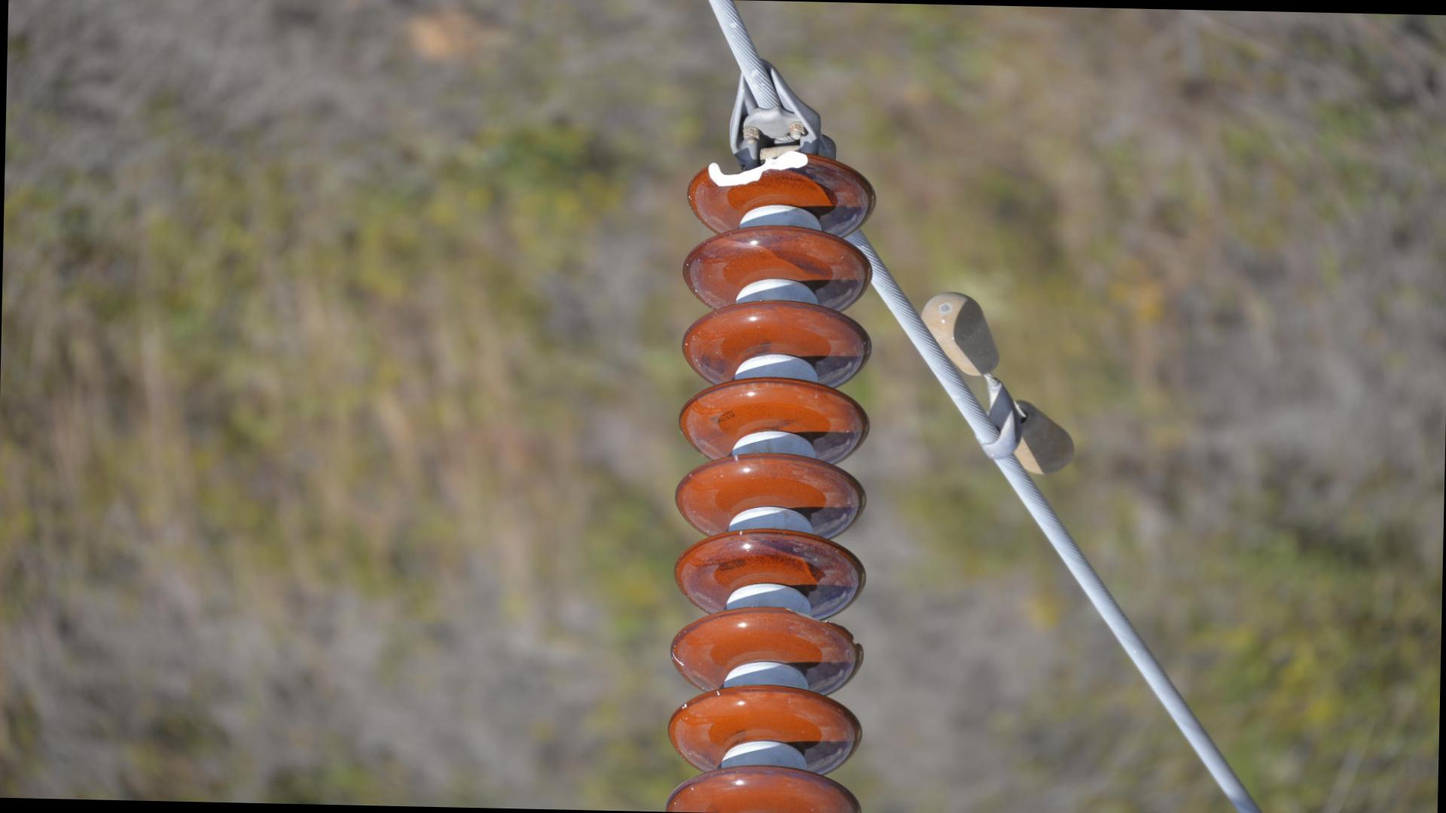damper: (911, 285, 1084, 483)
